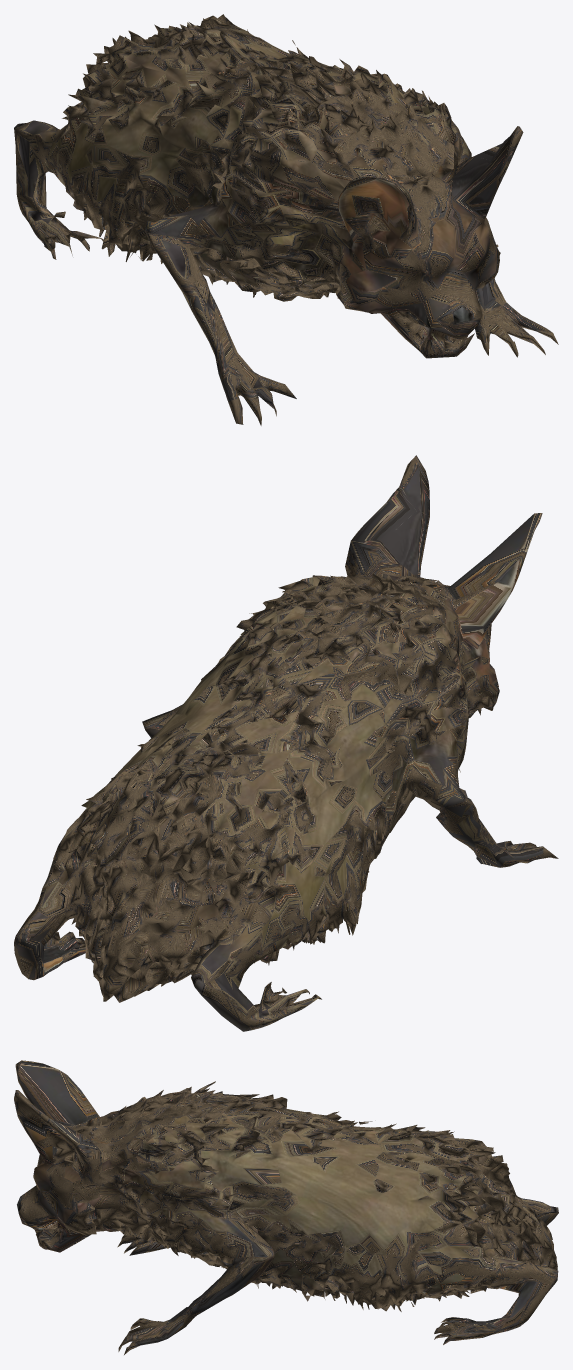
Rendered from giant-bat.glb.
3 renders of one model, top to bottom at view 1: azimuth 30°, elevation 25°; view 2: azimuth 150°, elevation 25°; view 3: azimuth 270°, elevation 25°, orthographic. The views are drawn at different scales.
Size of the model in its own units: 1.03 by 0.9248 by 2.
Materials: 1 (1 with a texture image).
